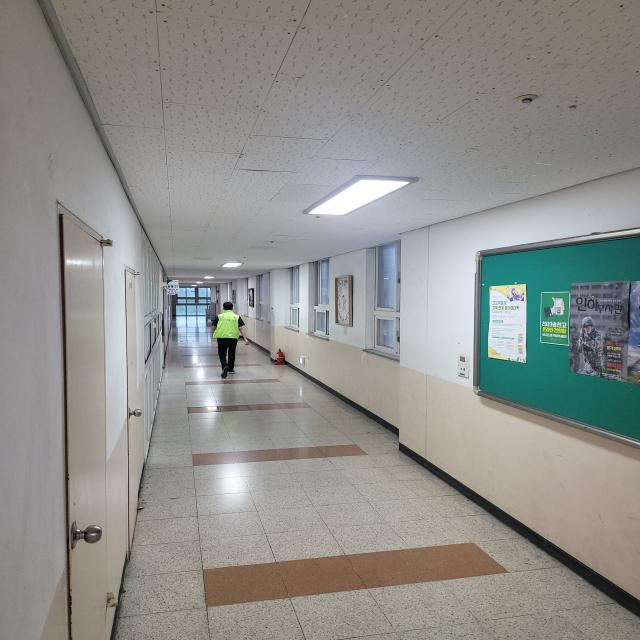weston_spy: (207, 303, 248, 344)
